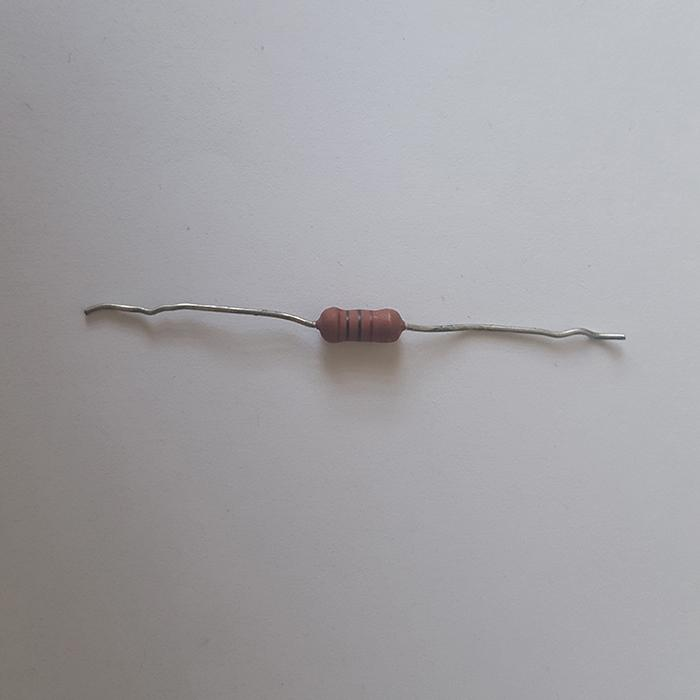resistor: (317, 306, 406, 342)
